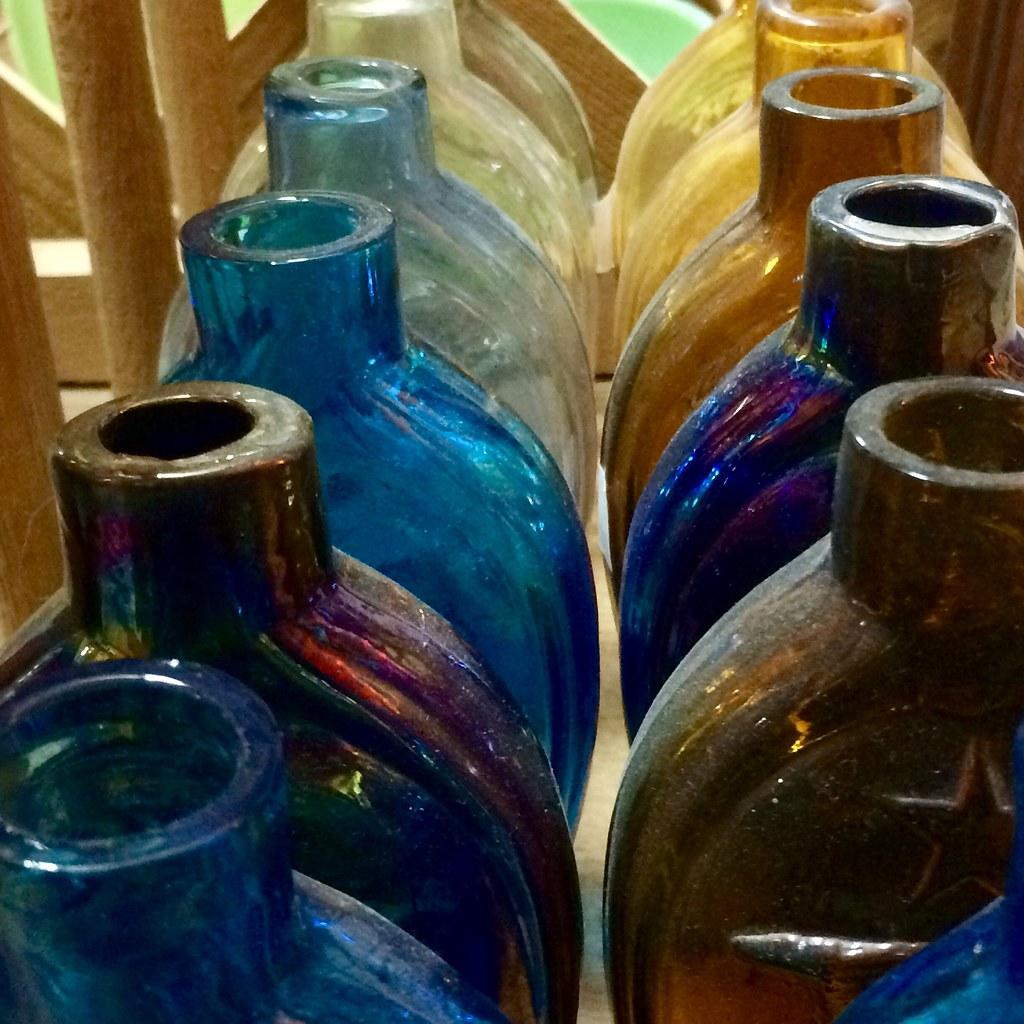bottle: (1, 379, 585, 1023), (156, 188, 601, 843), (603, 374, 1024, 1023), (617, 173, 1023, 749), (1, 657, 515, 1024), (258, 55, 600, 536), (610, 2, 994, 371)
